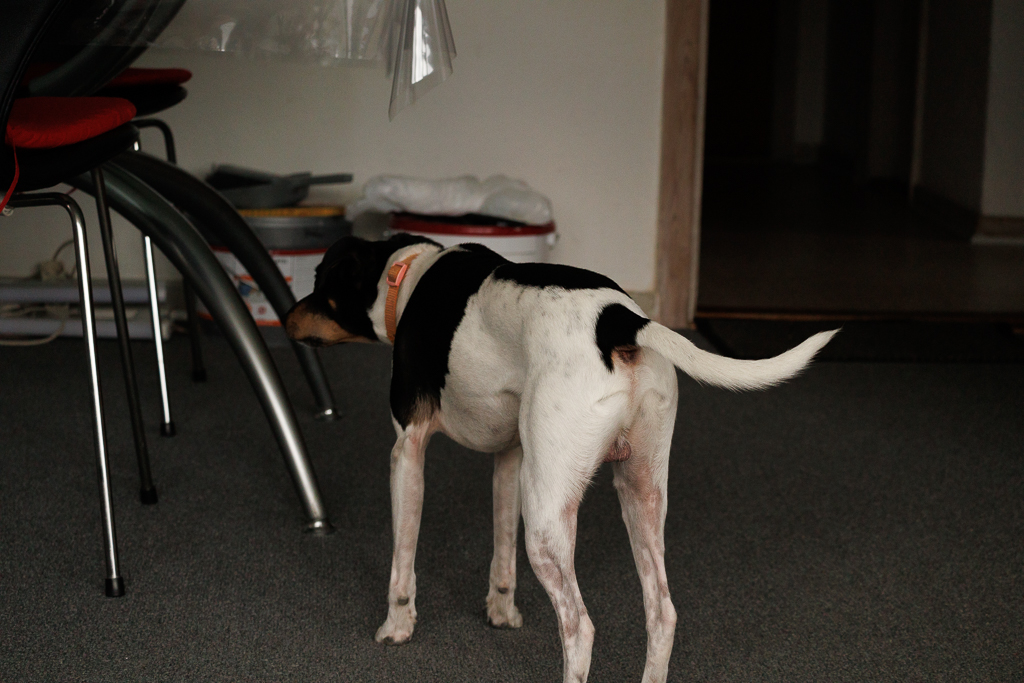Dog: (277, 214, 848, 683)
